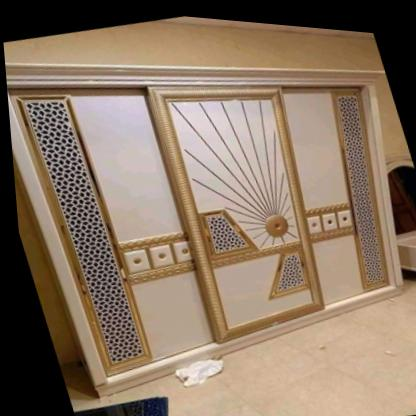Closet: (4, 63, 401, 395), (63, 266, 416, 416)
